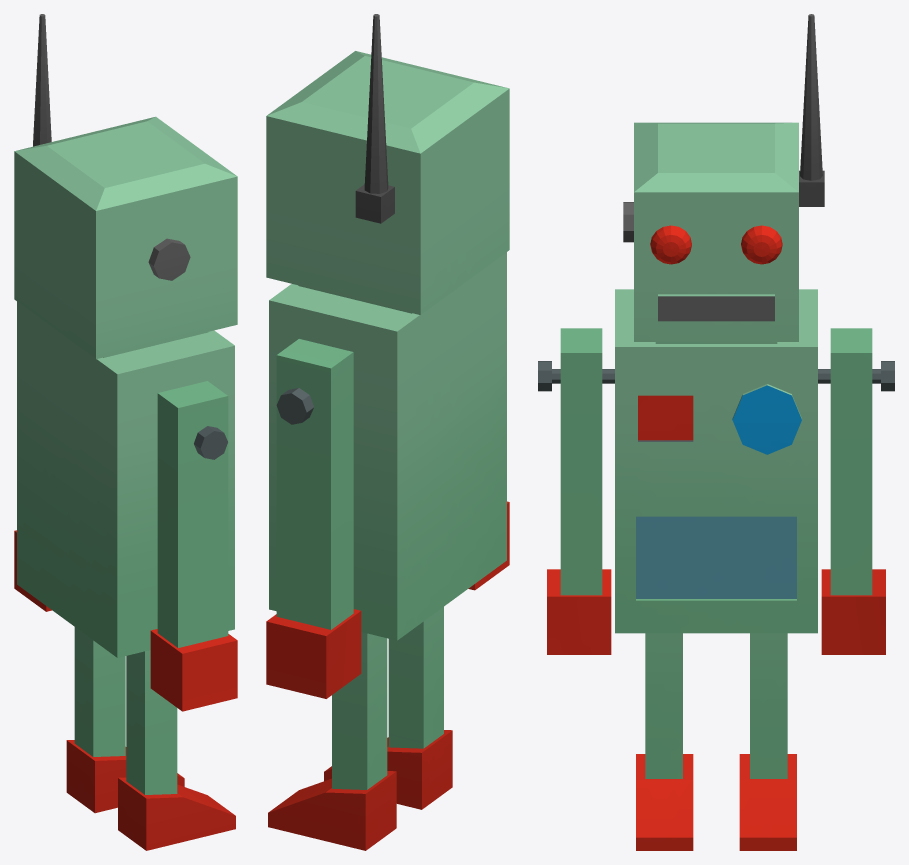
Rendered from ROBOT.fbx.
The picture shows the model from 3 angles, left to right: view 1: azimuth 30°, elevation 25°; view 2: azimuth 150°, elevation 25°; view 3: azimuth 270°, elevation 25°; orthographic projection. The views are drawn at different scales.
Visible parts, largest first — view 1: Cube.126; view 2: Cube.126; view 3: Cube.126.
Part boxes in pixels (<box>): Cube.126: <box>14,14,237,850</box>; Cube.126: <box>266,14,509,850</box>; Cube.126: <box>538,14,894,850</box>.
Size of the model in its own units: 29.82 by 60.02 by 145.
